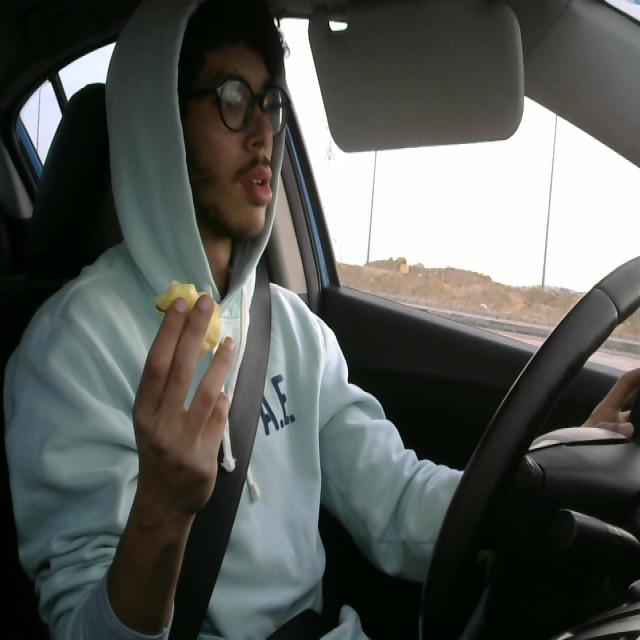eating: (144, 273, 226, 358)
